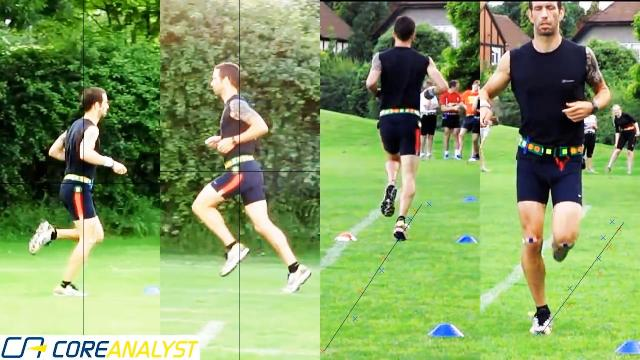berlari: (482, 0, 610, 342), (178, 52, 314, 296), (24, 82, 130, 300), (366, 12, 446, 248)
